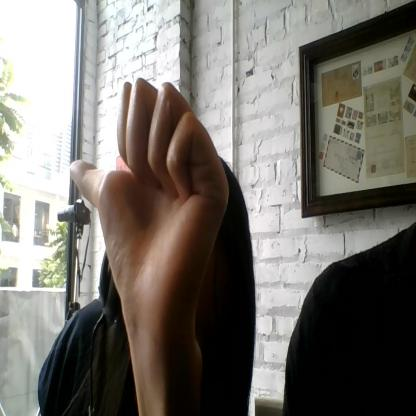right: (70, 80, 230, 327)
